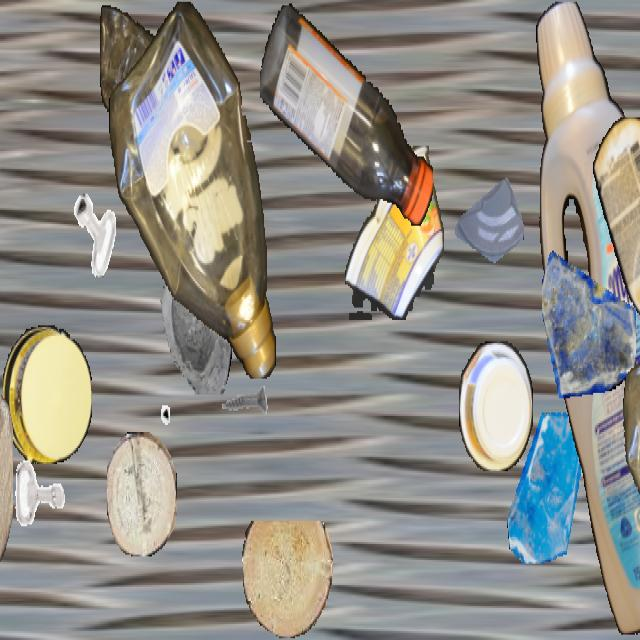glass: (542, 231, 636, 398), (145, 234, 235, 394), (505, 412, 589, 562), (455, 166, 523, 286)
metal: (9, 439, 71, 549), (217, 363, 269, 455), (120, 353, 170, 442), (71, 190, 119, 276)
plastic: (534, 2, 640, 634), (109, 1, 277, 378), (260, 2, 432, 229), (345, 146, 443, 320), (3, 325, 91, 464), (593, 117, 640, 345), (459, 342, 533, 469), (100, 2, 174, 126), (618, 311, 640, 638)
wood: (242, 521, 332, 638), (107, 432, 177, 556), (0, 382, 13, 638)
